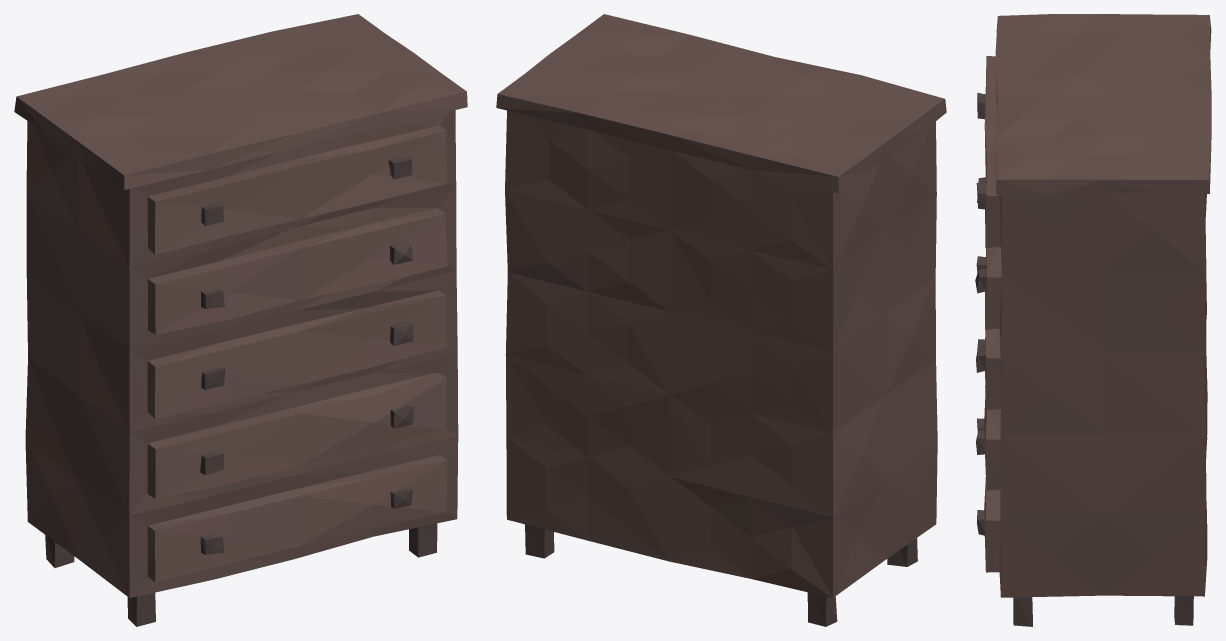
File: bedroom_drawers.fbx
The picture shows the model from 3 angles, left to right: view 1: azimuth 30°, elevation 25°; view 2: azimuth 150°, elevation 25°; view 3: azimuth 270°, elevation 25°; orthographic projection.
Parts seen in each view (by area): view 1: bedroom_drawers; view 2: bedroom_drawers; view 3: bedroom_drawers.
Boxes of the visible parts, x1,y1,x2,y2 form: bedroom_drawers: (14, 14, 467, 626); bedroom_drawers: (496, 14, 946, 626); bedroom_drawers: (975, 14, 1211, 626).
Size of the model in its own units: 76.79 by 99.01 by 46.15.
